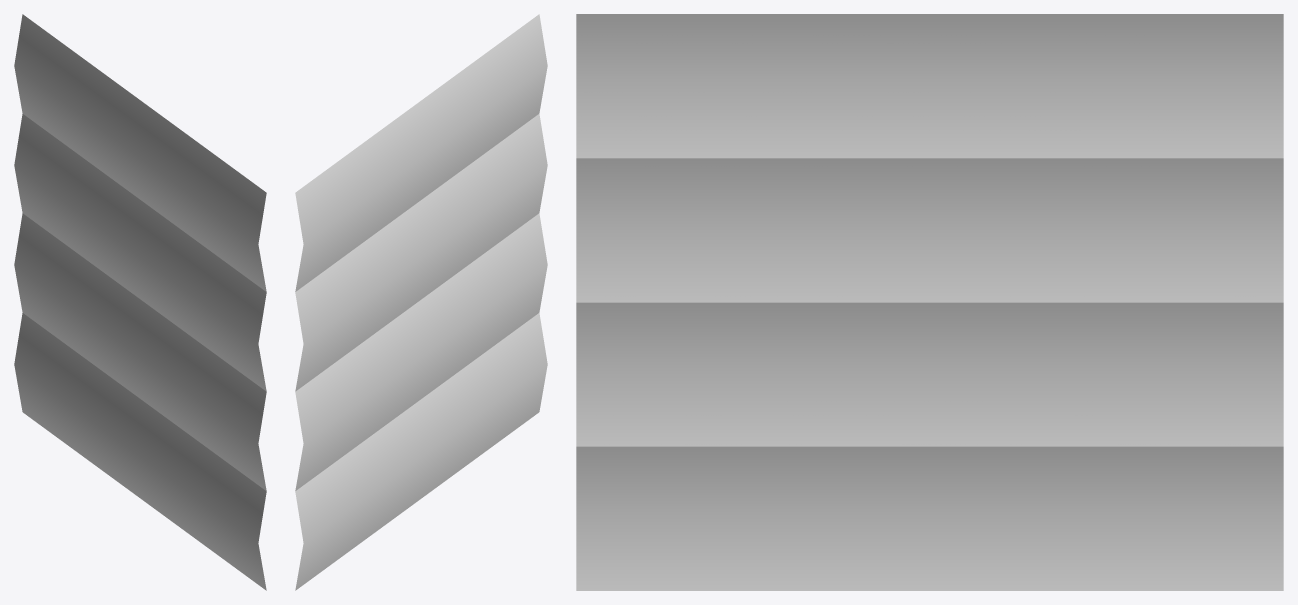
Rendered from WallFull017.fbx.
3 renders of one model, left to right at view 1: azimuth 30°, elevation 25°; view 2: azimuth 150°, elevation 25°; view 3: azimuth 270°, elevation 25°, orthographic. The views are drawn at different scales.
Visible parts, largest first — view 1: WallFull017; view 2: WallFull017; view 3: WallFull017.
Boxes of the visible parts, <box> form: WallFull017: <box>14,14,266,590</box>; WallFull017: <box>295,14,547,590</box>; WallFull017: <box>576,14,1283,590</box>.
Size of the model in its own units: 5.23 by 267 by 240.
